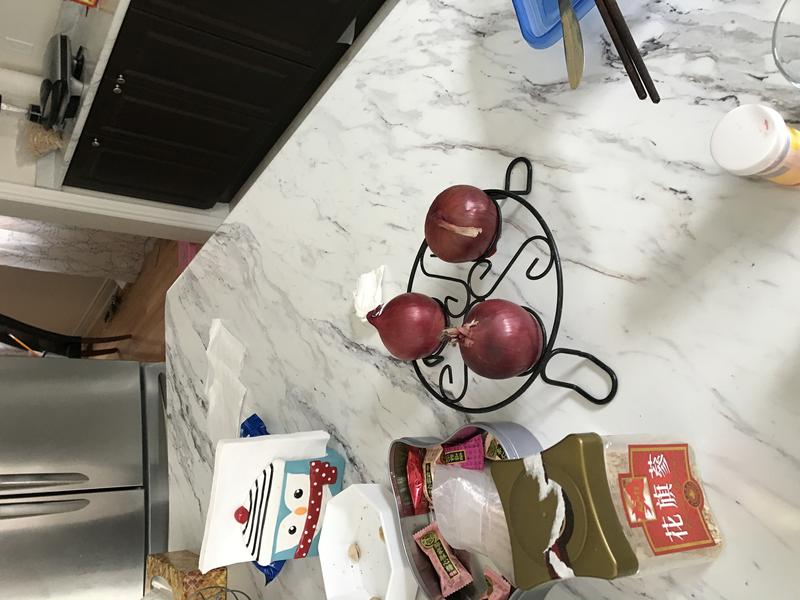purple_onion: (445, 292, 553, 386), (418, 178, 513, 270), (363, 286, 449, 368)
